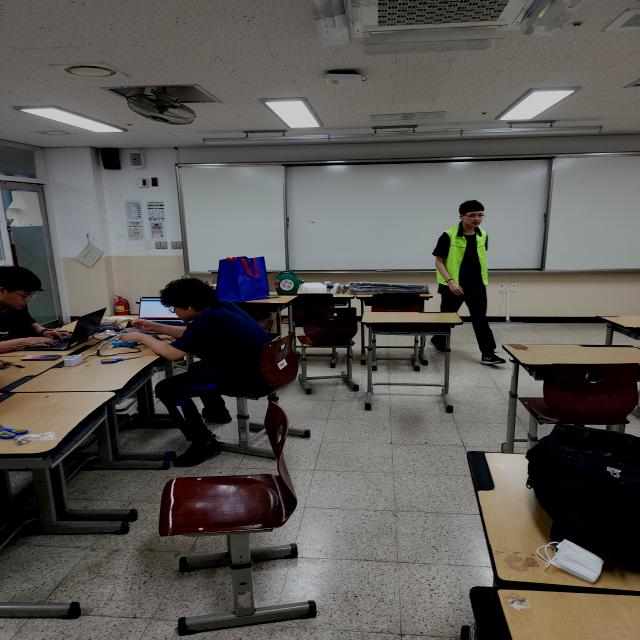weston_spy: (436, 232, 494, 298)
